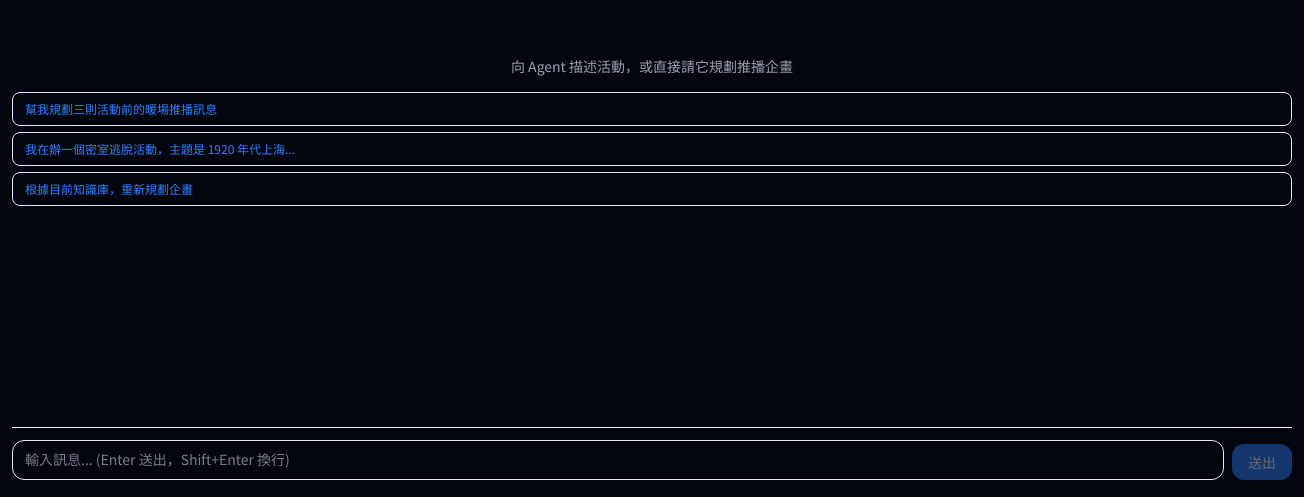
Test: AgentChatPanel — sync completed › shows assistant reply immediately
In the text box with placeholder "輸入訊息... (Enter 送出，Shift+Enter 換行)": (618, 460) [12,440,1224,480], type "規劃訊息"
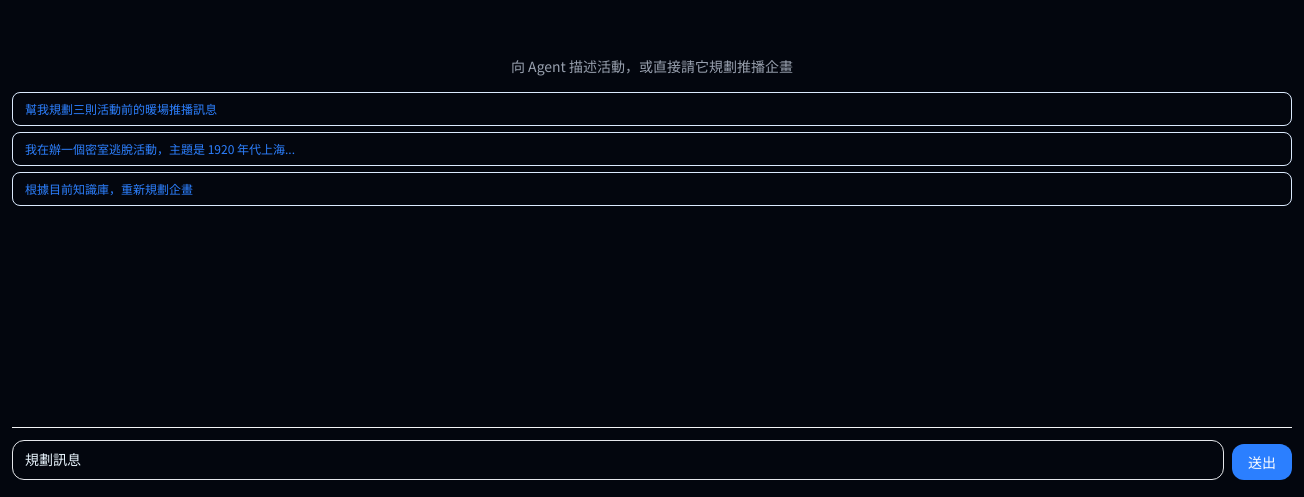
Click the button "送出": (1262, 462) [1232,444,1292,480]
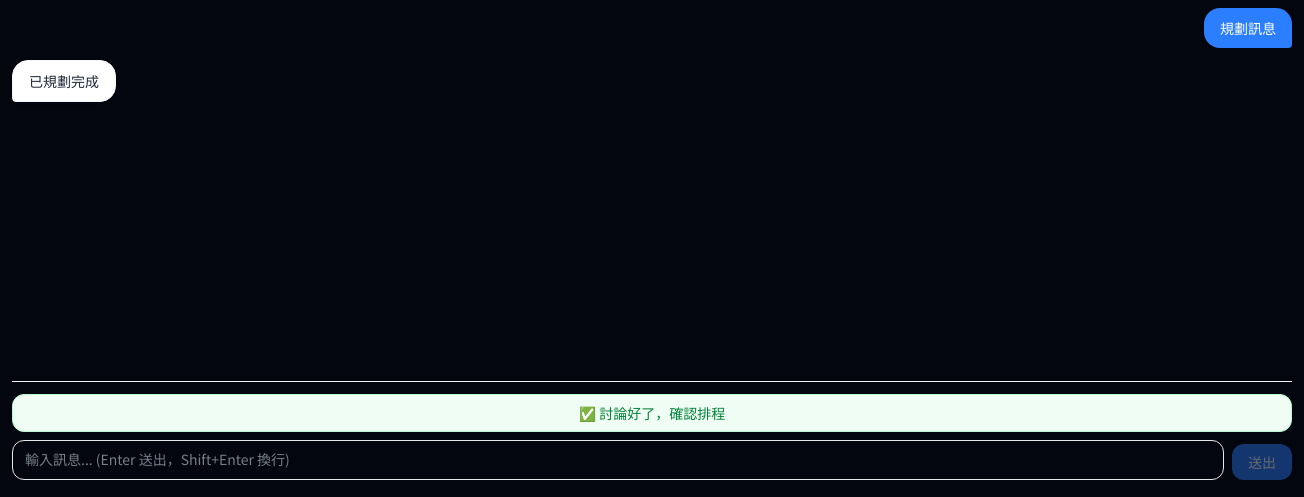
Expected: the text "已規劃完成" is shown, [12,60,116,102]
